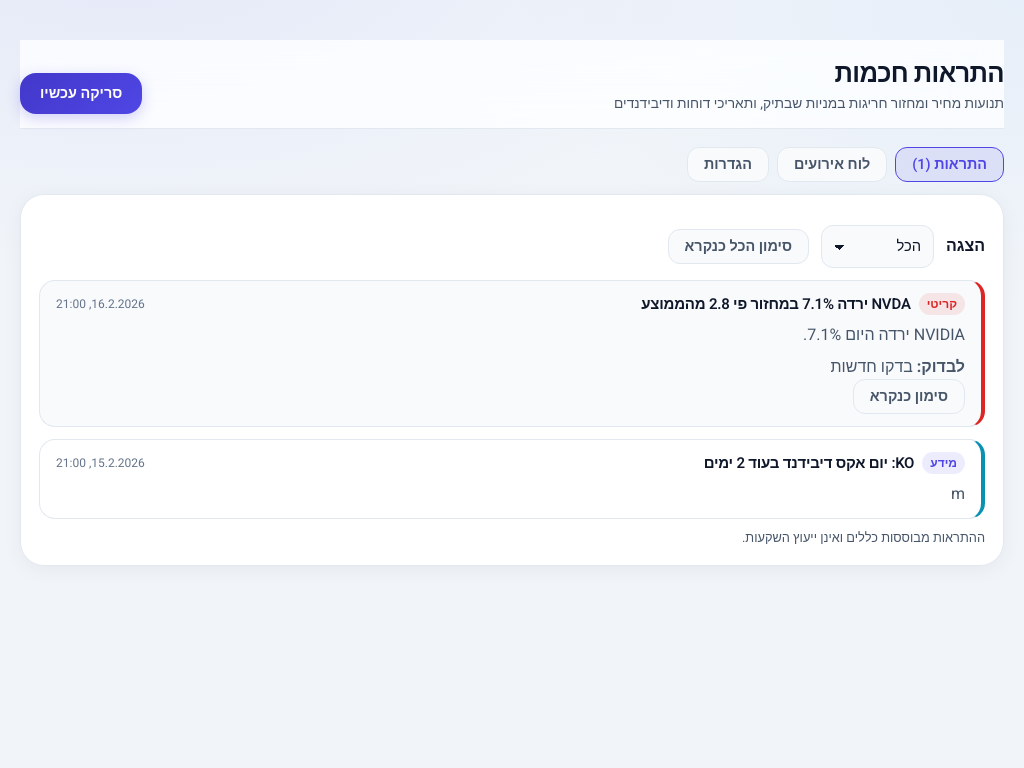
Test: scan now reports what it found
Click the button "סריקה עכשיו" at (81, 94), box [20,73,142,114]
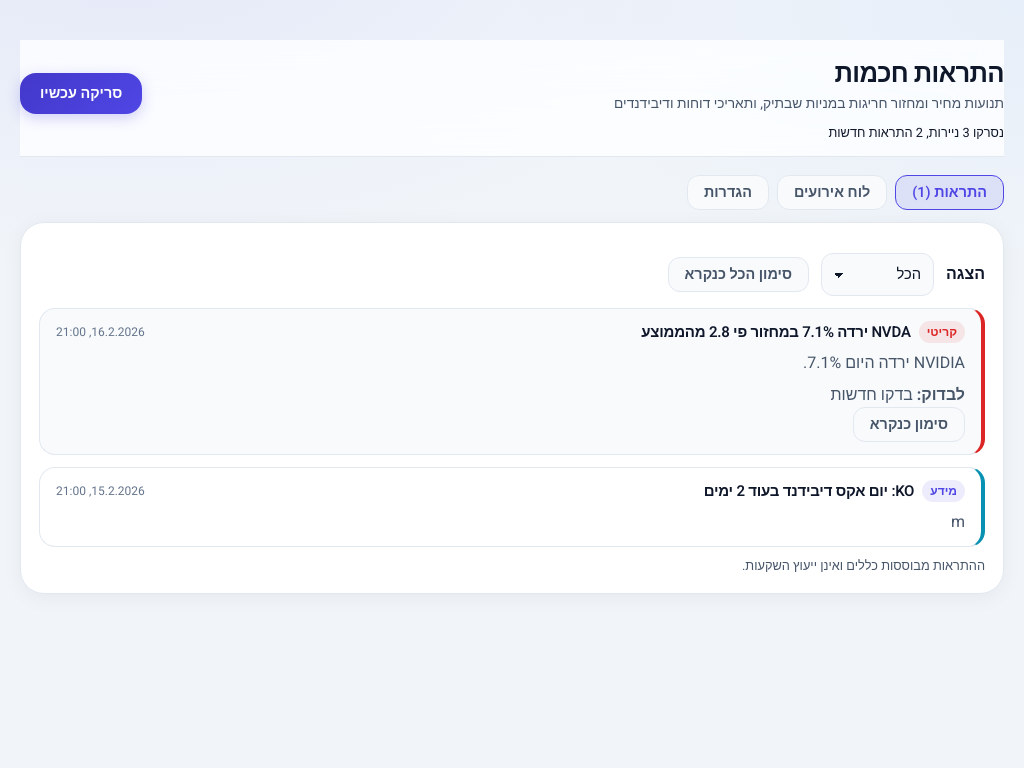
Result: the text "נסרקו 3 ניירות, 2 התראות חדשות" is shown at [828,124,1004,142]
